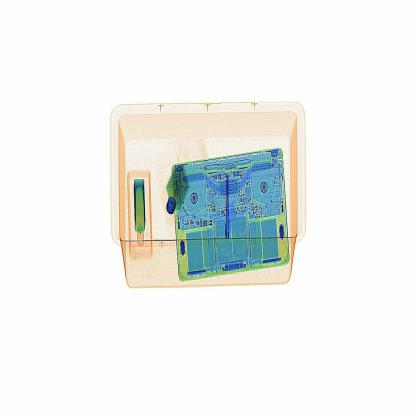pliers: (214, 167, 240, 252)
